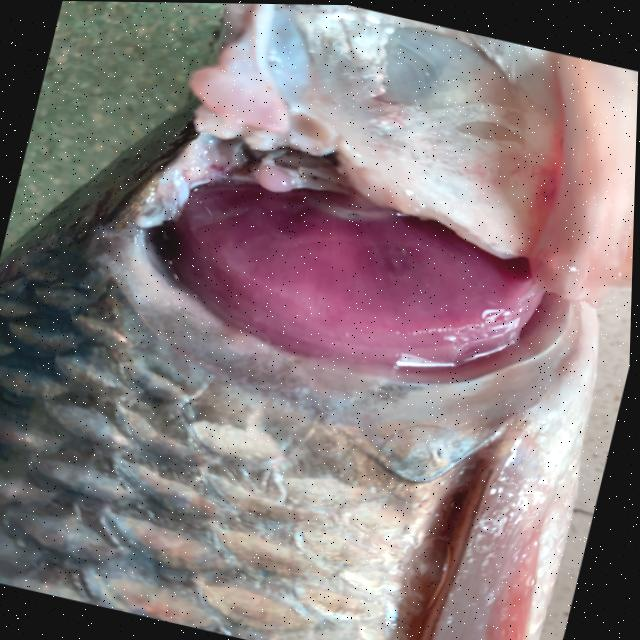Fresh: (56, 81, 638, 453)
